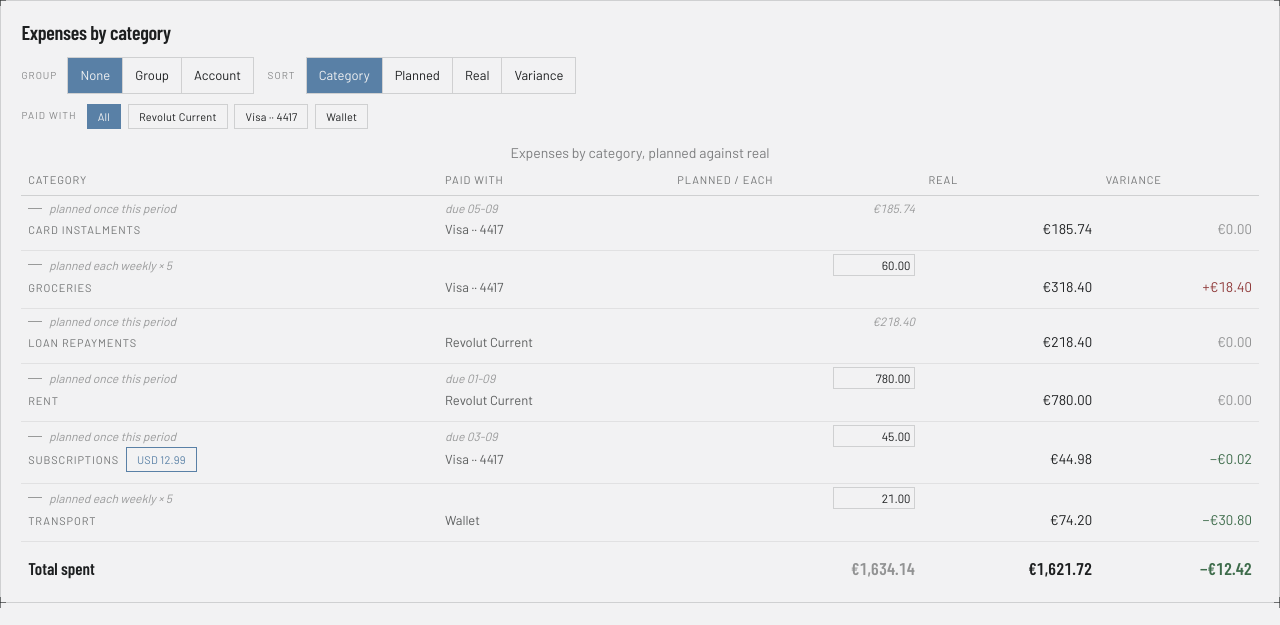
ExpensesPage - filtering (BR-15) › totals the filter rather than the period, and says so
The image size is (1280, 625).
Check: the column heading "Rent" is shown, box [21,389,438,421]
Click the radio button labelled "Wallet": (342, 116) [315,104,368,129]
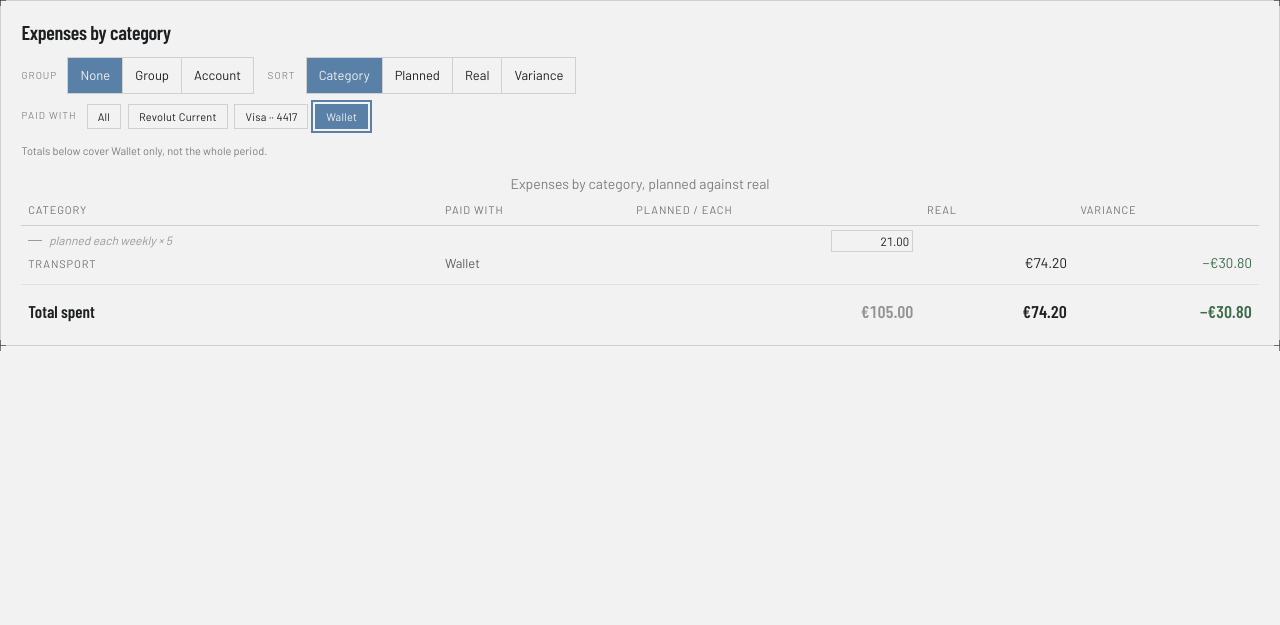
Check: the text "€105.00" is shown, box [861,301,913,321]
Check: the text "€74.20" in the row of "Total spent" is shown, box [1022,301,1067,321]
Check: the text "Totals below cover Wallet only, not the whole period." is shown, box [21,144,267,157]
